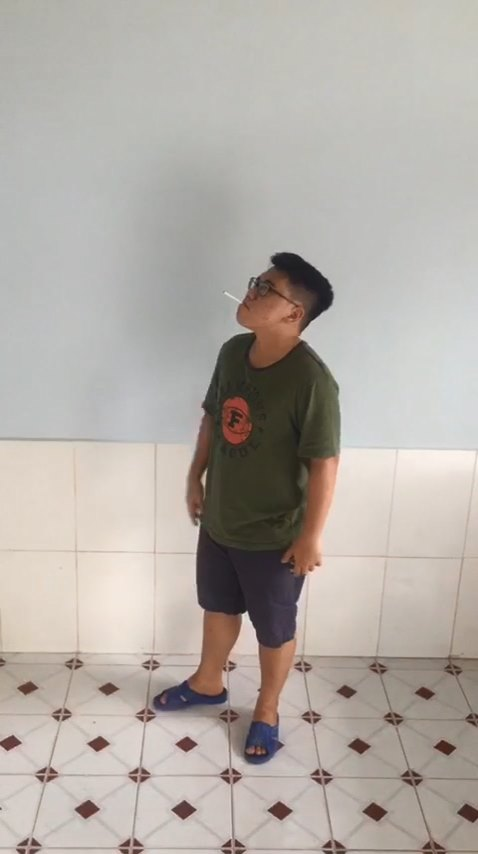cigarette: (149, 242, 346, 780), (221, 284, 245, 312)
